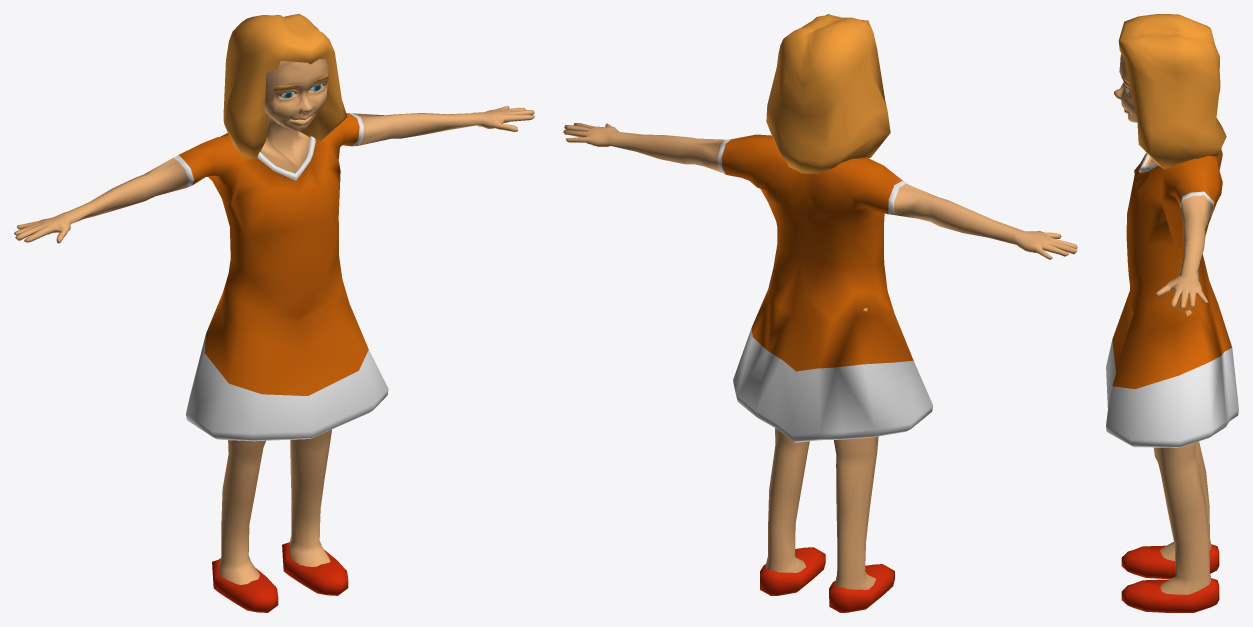
The model's file is Girl_Character1.fbx.
3 views of the same model, side by side, from view 1: azimuth 30°, elevation 25°; view 2: azimuth 150°, elevation 25°; view 3: azimuth 270°, elevation 25° (orthographic).
Parts seen in each view (by area): view 1: FEMALE BASE CHARCATER.007, Sphere.008, Cube.004, Cube.002; view 2: FEMALE BASE CHARCATER.007, Sphere.008, Cube.004, Cube.002; view 3: FEMALE BASE CHARCATER.007, Sphere.008, Cube.004, Cube.002.
Part boxes in pixels (x1,y1,x2,y2): FEMALE BASE CHARCATER.007: (14,59,534,584); Sphere.008: (223,14,347,159); Cube.004: (282,542,348,595); Cube.002: (212,558,278,612); FEMALE BASE CHARCATER.007: (563,123,1077,589); Sphere.008: (766,14,890,173); Cube.004: (760,547,825,595); Cube.002: (829,564,894,612); FEMALE BASE CHARCATER.007: (1106,53,1238,594); Sphere.008: (1118,14,1226,169); Cube.004: (1121,578,1219,612); Cube.002: (1121,544,1219,578).
Size of the model in its own units: 207 by 218 by 46.25.
